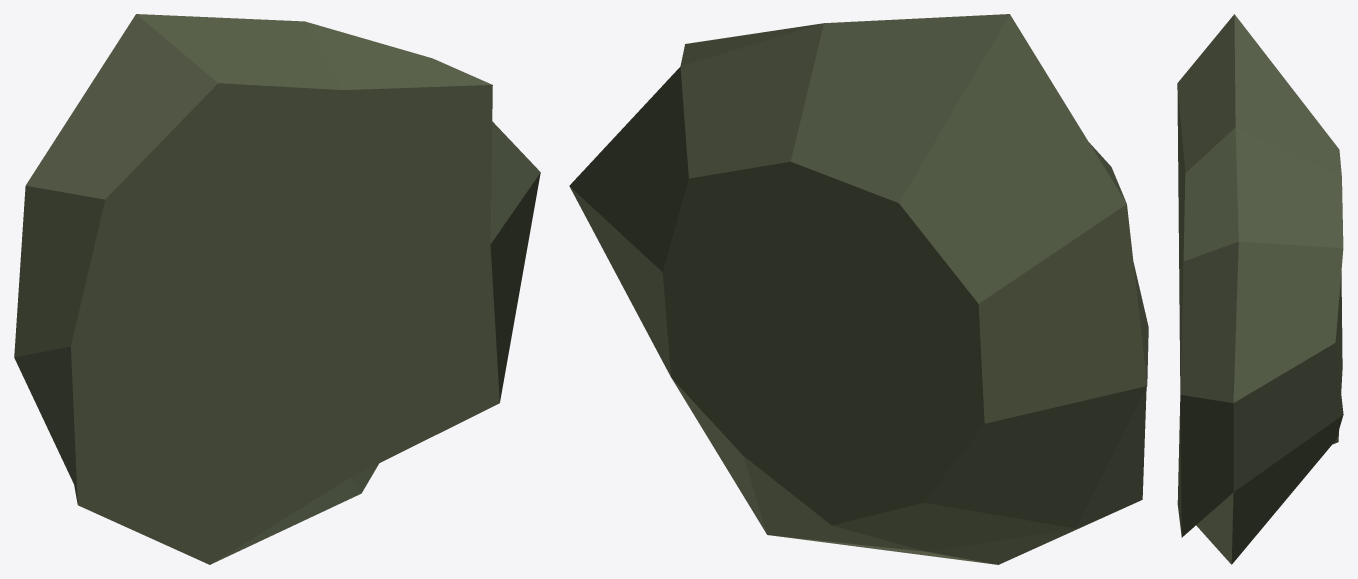
Rendered from Mountain_Boulder.fbx.
3 renders of one model, left to right at view 1: azimuth 30°, elevation 25°; view 2: azimuth 150°, elevation 25°; view 3: azimuth 270°, elevation 25°, orthographic. The views are drawn at different scales.
Parts seen in each view (by area): view 1: Mountain_Boulder_LOD0; view 2: Mountain_Boulder_LOD0; view 3: Mountain_Boulder_LOD0.
Part boxes in pixels (box(x1,y1,x2,y2)): Mountain_Boulder_LOD0: box(14, 14, 540, 564); Mountain_Boulder_LOD0: box(569, 14, 1148, 564); Mountain_Boulder_LOD0: box(1177, 14, 1343, 564).
Size of what is drawn, in the model's own units: 689 by 671 by 219.
